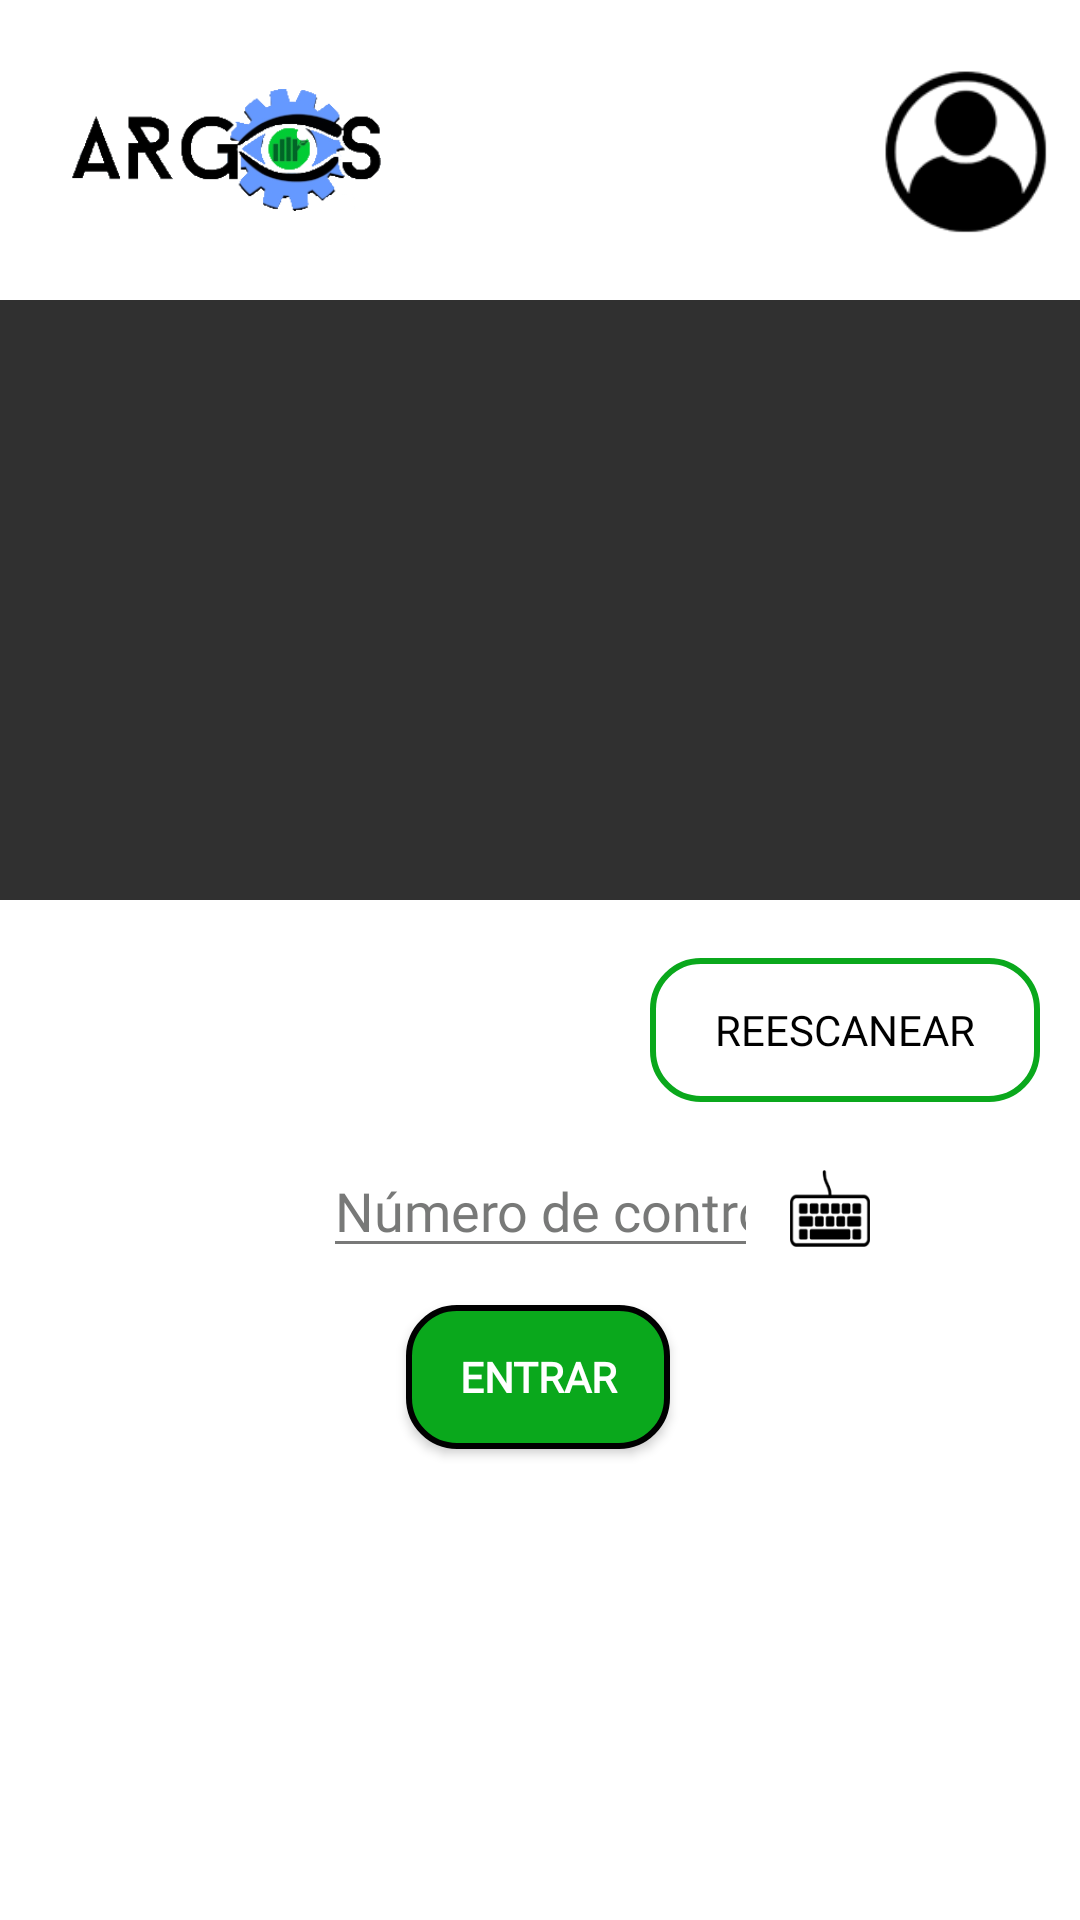

Where icons sit on this 1080*1920 app screen, as region(x1, y1, x2, y2):
Icono de teclado: region(790, 1170, 870, 1247)
